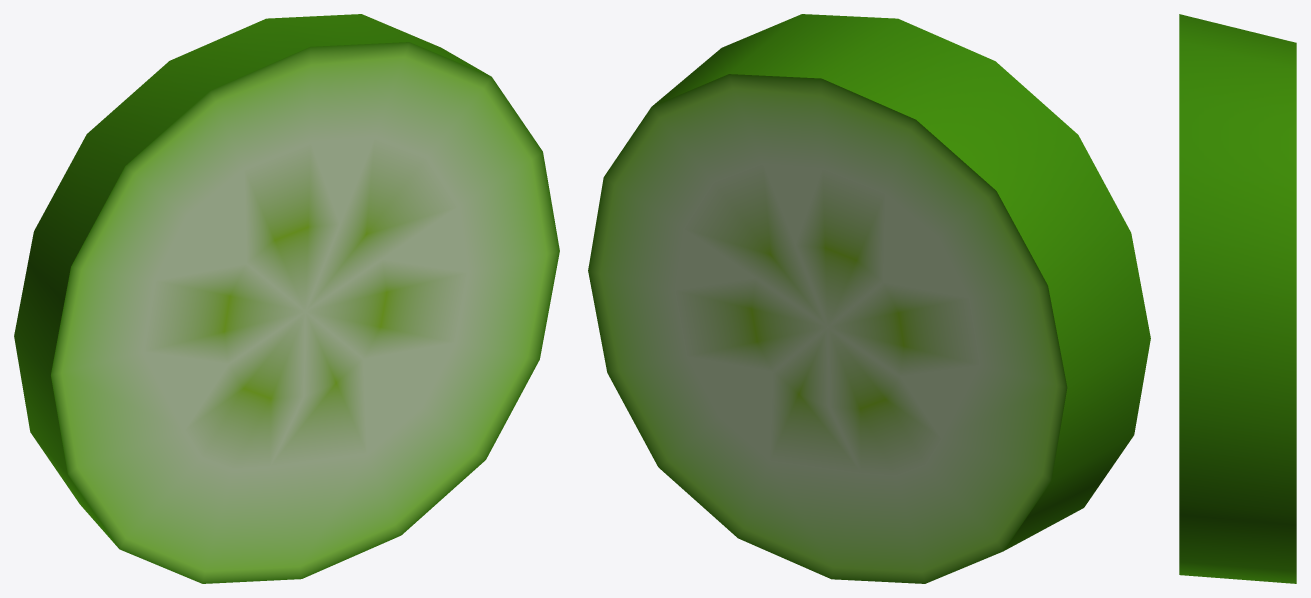
The model's file is Cucumber_Slice_18.fbx.
3 renders of one model, left to right at view 1: azimuth 30°, elevation 25°; view 2: azimuth 150°, elevation 25°; view 3: azimuth 270°, elevation 25°, orthographic. The views are drawn at different scales.
Parts seen in each view (by area): view 1: Cucumber_Slice_18; view 2: Cucumber_Slice_18; view 3: Cucumber_Slice_18.
Boxes of the visible parts, x1,y1,x2,y2 form: Cucumber_Slice_18: (14,14,559,583); Cucumber_Slice_18: (588,14,1150,583); Cucumber_Slice_18: (1179,14,1296,583).
Bounding box in the file's own units: 4.18 × 4.11 × 0.8573.
